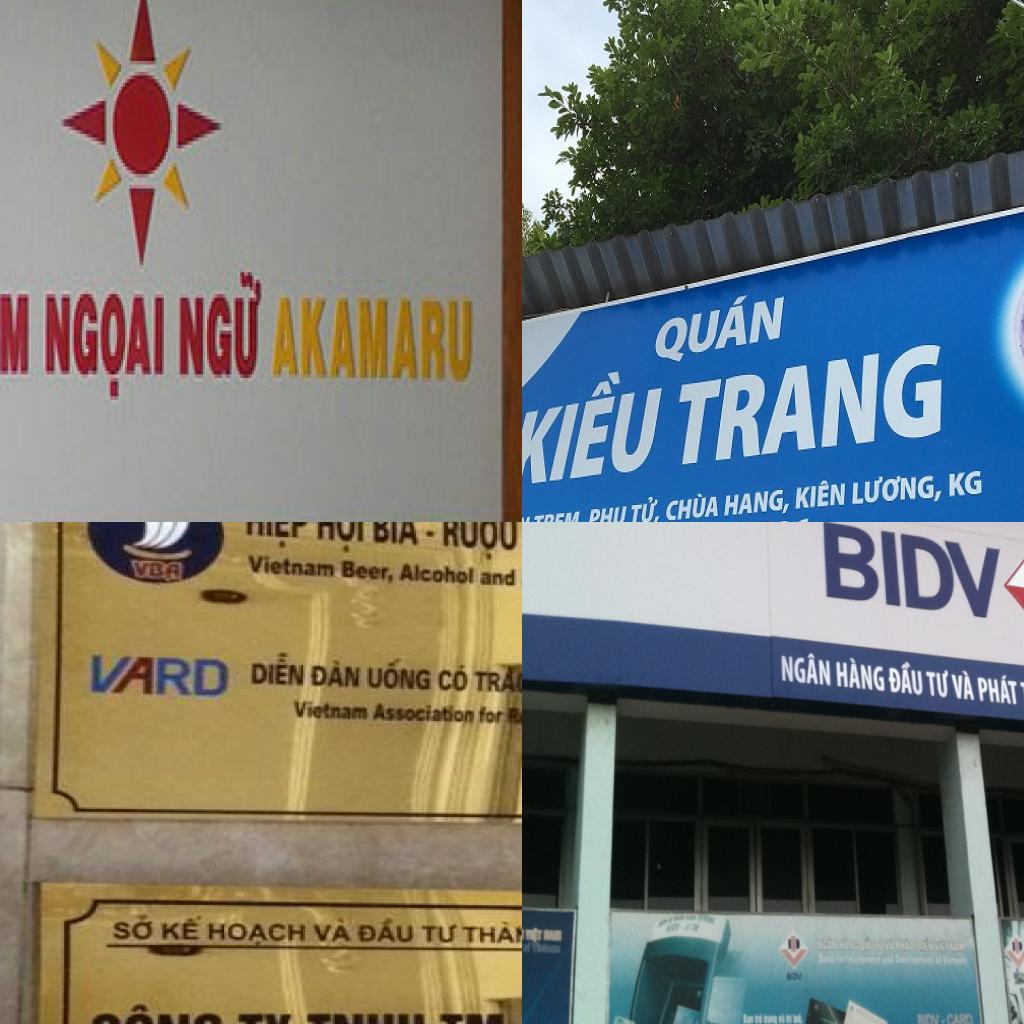text: (670, 342, 946, 467), (822, 522, 1001, 623), (522, 365, 666, 488), (45, 291, 172, 407), (176, 268, 268, 382), (652, 288, 787, 363), (90, 652, 234, 699), (0, 272, 31, 385), (85, 1002, 228, 1024), (441, 522, 518, 561), (852, 474, 944, 506), (207, 923, 309, 948), (248, 553, 337, 579), (367, 657, 433, 692), (373, 702, 478, 724), (250, 650, 309, 688), (781, 650, 833, 692), (723, 489, 791, 520), (245, 522, 311, 553), (401, 561, 476, 587), (836, 657, 885, 696), (794, 479, 847, 512), (316, 522, 367, 556), (664, 492, 720, 522), (292, 700, 372, 721), (473, 664, 522, 695), (312, 659, 362, 689), (463, 919, 522, 944), (886, 661, 925, 698), (978, 672, 1018, 708), (359, 918, 416, 943), (111, 913, 158, 942), (341, 560, 397, 584), (373, 522, 422, 548), (160, 914, 205, 942), (307, 1014, 428, 1024), (312, 916, 354, 944), (130, 560, 186, 580), (438, 663, 472, 694), (952, 666, 977, 708), (926, 665, 952, 704), (949, 470, 983, 498), (420, 923, 461, 945), (630, 497, 661, 522), (236, 1012, 296, 1024), (441, 1013, 505, 1024), (480, 569, 516, 588), (585, 506, 627, 522), (895, 953, 935, 969), (532, 510, 585, 522), (480, 705, 508, 726), (846, 952, 882, 966), (913, 935, 935, 954), (838, 936, 860, 954), (942, 952, 968, 967), (530, 944, 562, 956), (815, 936, 839, 952), (525, 926, 544, 946), (543, 929, 563, 945), (894, 937, 914, 953), (946, 1013, 973, 1024), (915, 1013, 940, 1024), (859, 934, 876, 950), (934, 937, 949, 955), (818, 952, 836, 966), (785, 970, 804, 980), (882, 952, 895, 966), (885, 937, 896, 953), (763, 1013, 779, 1024), (791, 1011, 804, 1024), (874, 939, 886, 953), (951, 942, 966, 953), (742, 1012, 755, 1024), (754, 1010, 764, 1024), (785, 1009, 794, 1024), (935, 952, 943, 967), (837, 952, 846, 964), (777, 1012, 786, 1024), (524, 942, 531, 955)
